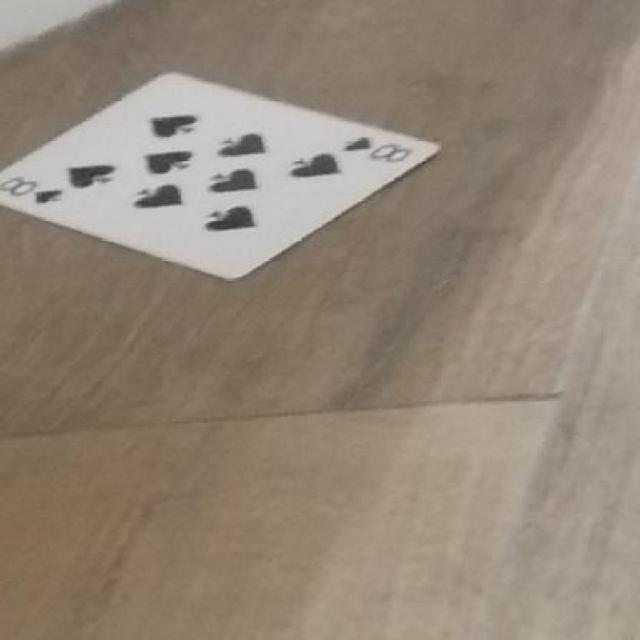8S: (1, 170, 72, 218), (335, 136, 434, 170)
